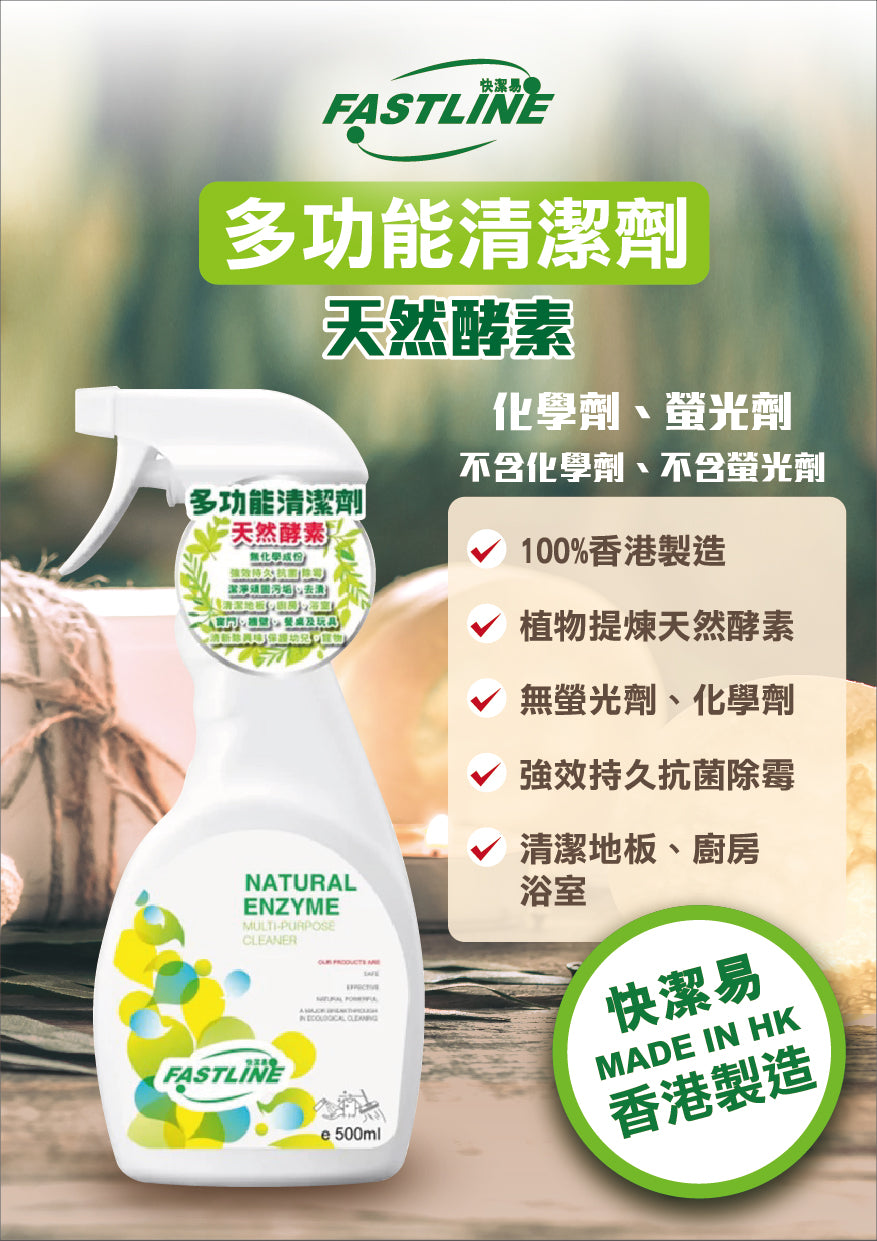cleaner: (45, 391, 421, 1200)
